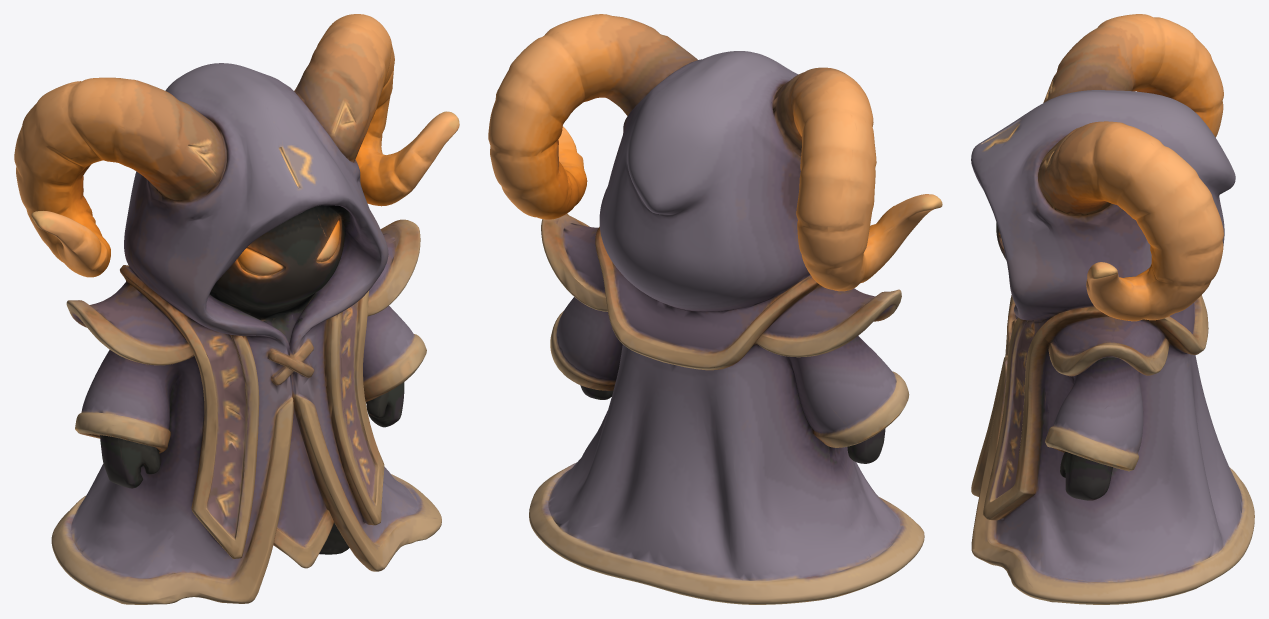
The model's file is stage_6.glb.
3 renders of one model, left to right at view 1: azimuth 30°, elevation 25°; view 2: azimuth 150°, elevation 25°; view 3: azimuth 270°, elevation 25°, orthographic. The views are drawn at different scales.
Visible parts, largest first — view 1: convert; view 2: convert; view 3: convert.
Boxes of the visible parts, <box> form: convert: <box>14,14,459,604</box>; convert: <box>488,14,942,604</box>; convert: <box>971,14,1254,604</box>.
Bounding box in the file's own units: 0.8821 × 0.962 × 0.5446.
1 material, 1 textured.
